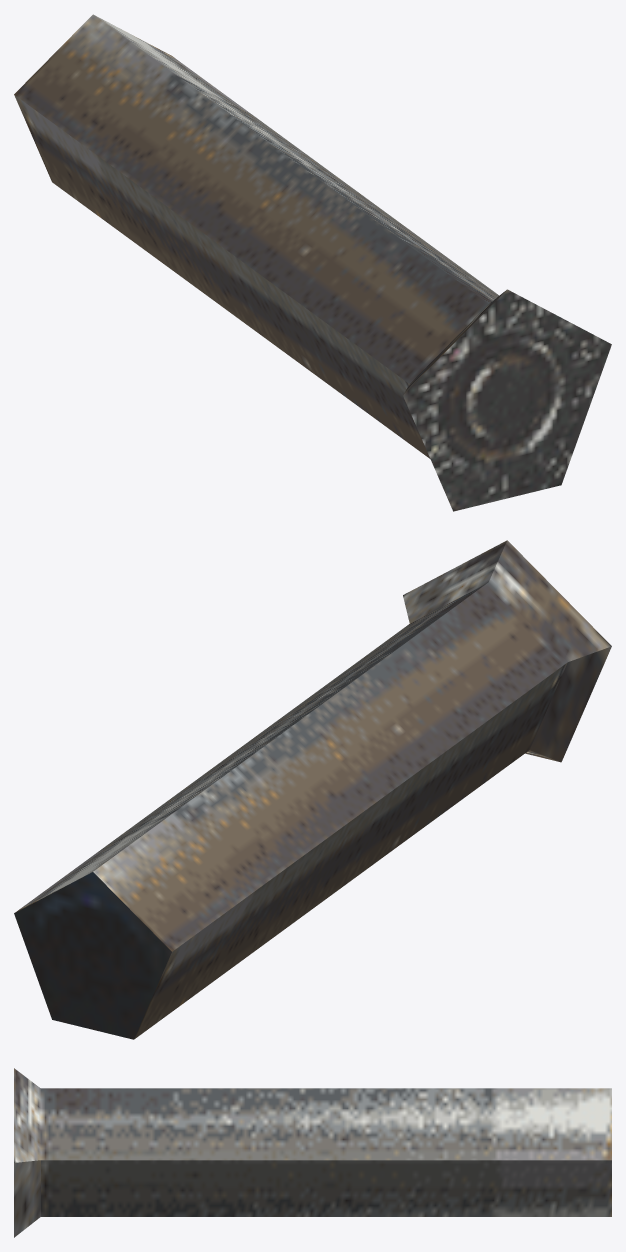
File: casingRimmed.glb
3 views of the same model, one above another, from view 1: azimuth 30°, elevation 25°; view 2: azimuth 150°, elevation 25°; view 3: azimuth 270°, elevation 25° (orthographic). The views are drawn at different scales.
Parts seen in each view (by area): view 1: Magnum unspent.001; view 2: Magnum unspent.001; view 3: Magnum unspent.001.
Boxes of the visible parts, x1,y1,x2,y2 form: Magnum unspent.001: (14,14,611,511); Magnum unspent.001: (14,540,611,1039); Magnum unspent.001: (14,1068,611,1237).
Bounding box in the file's own units: 0.0513 × 0.049 × 0.1759.
Materials: 1 (1 with a texture image).
